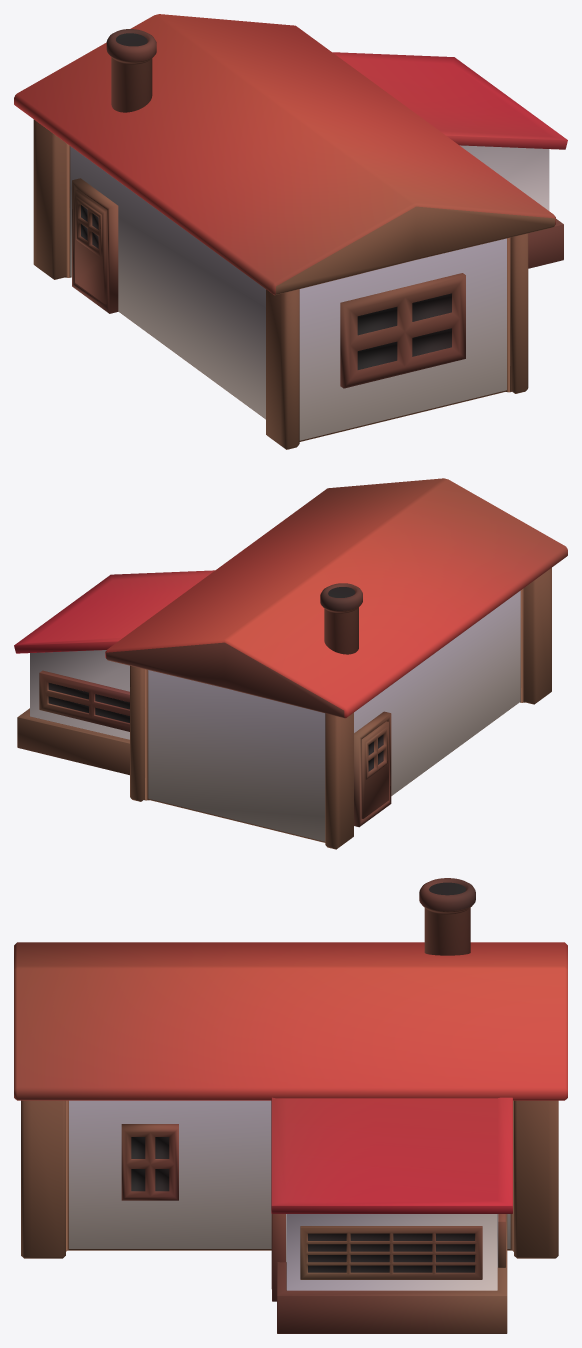
Rendered from mod_house.fbx.
3 views of the same model, one above another, from view 1: azimuth 30°, elevation 25°; view 2: azimuth 150°, elevation 25°; view 3: azimuth 270°, elevation 25° (orthographic). The views are drawn at different scales.
Parts seen in each view (by area): view 1: Roof, Base, Subbulding, Window, door, Stove; view 2: Roof, Base, Subbulding, door, Stove; view 3: Roof, Subbulding, Base, Small window, Stove.
Boxes of the visible parts, x1,y1,x2,y2 form: Roof: [14, 14, 555, 295]; Base: [33, 119, 528, 449]; Subbulding: [332, 52, 567, 268]; Window: [340, 273, 465, 388]; door: [72, 178, 118, 313]; Stove: [106, 29, 156, 112]; Roof: [105, 478, 567, 718]; Base: [130, 568, 551, 849]; Subbulding: [14, 570, 214, 775]; door: [354, 711, 391, 827]; Stove: [320, 583, 362, 654]; Roof: [14, 942, 567, 1100]; Subbulding: [271, 1097, 512, 1333]; Base: [21, 1100, 558, 1258]; Small window: [121, 1124, 178, 1200]; Stove: [419, 878, 475, 955].
Bounding box in the file's own units: 1562 × 916 × 1696.
